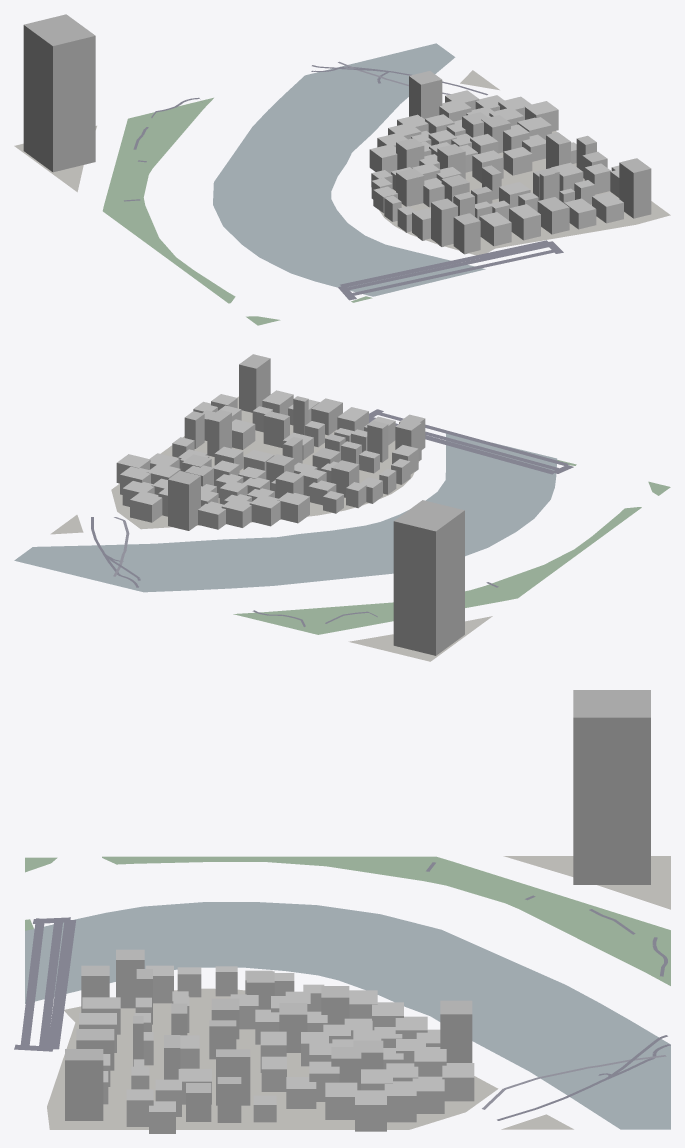
File: 122_79_mid.glb
The picture shows the model from 3 angles, top to bottom: view 1: azimuth 30°, elevation 25°; view 2: azimuth 150°, elevation 25°; view 3: azimuth 270°, elevation 25°; orthographic projection. The views are drawn at different scales.
Bounding box in the file's own units: 506 × 145 × 509.
